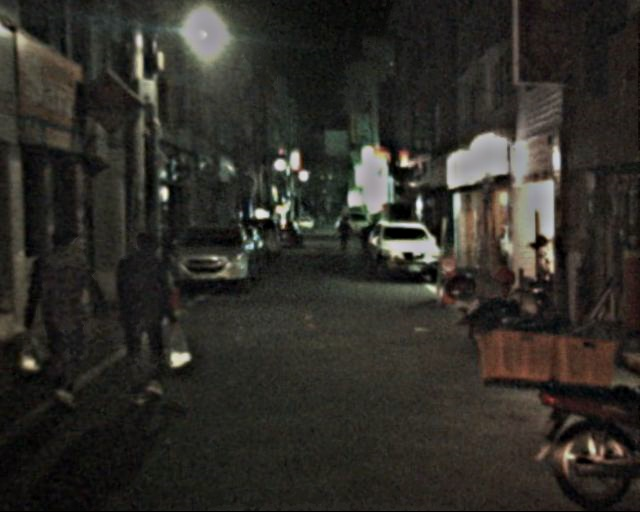person: (24, 220, 105, 405), (105, 223, 178, 406), (335, 215, 353, 254)
